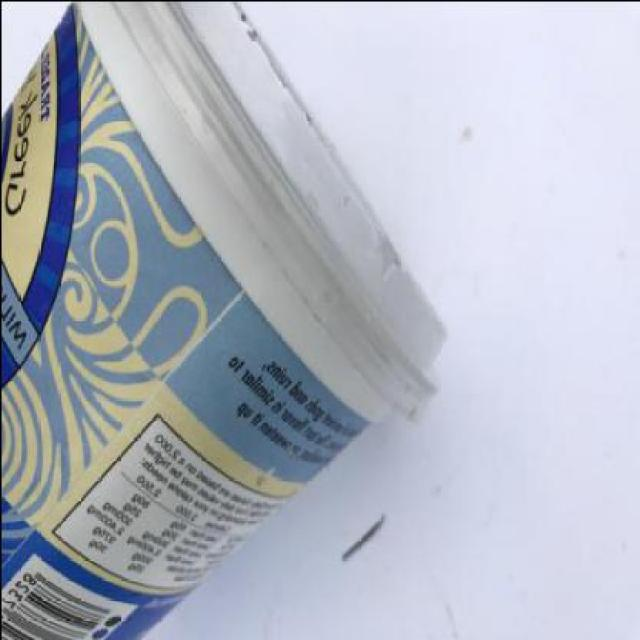PLASTIC: (1, 1, 452, 638)
